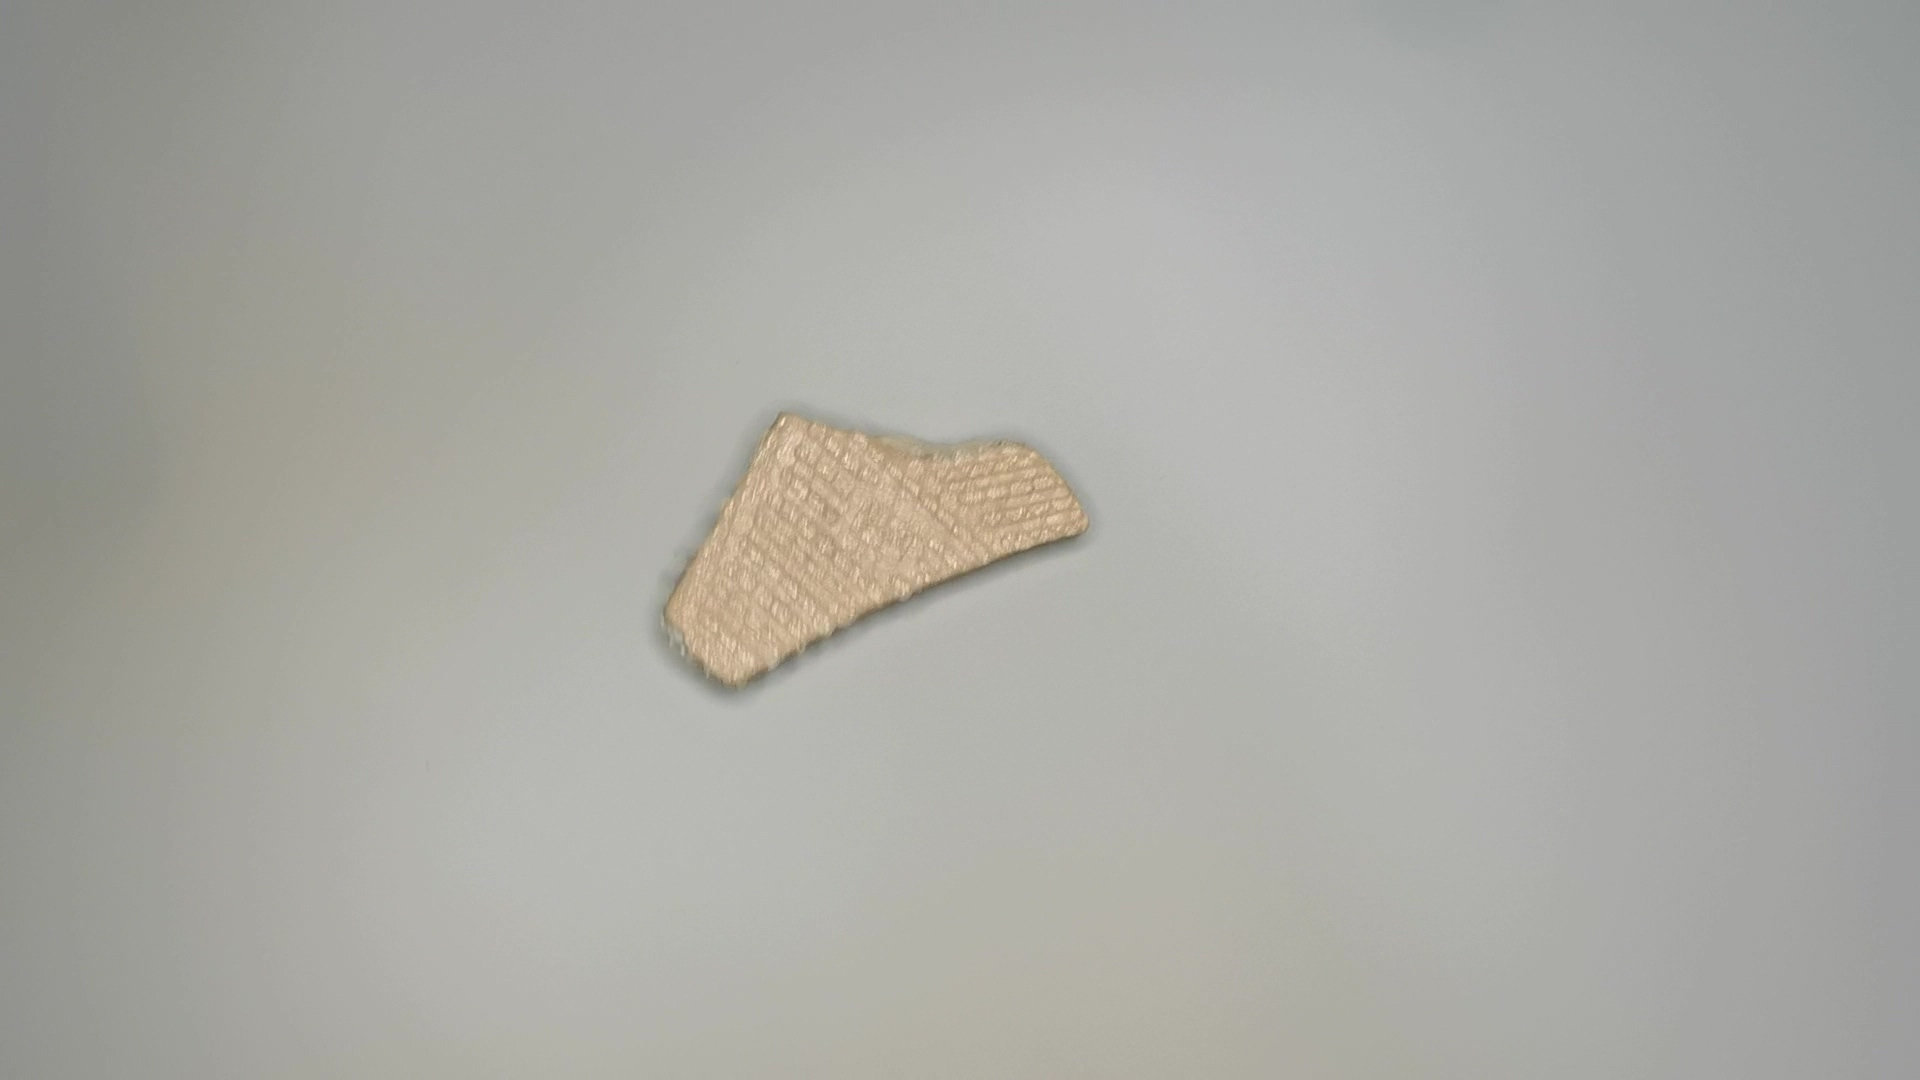ceramic: (655, 402, 1097, 698)
